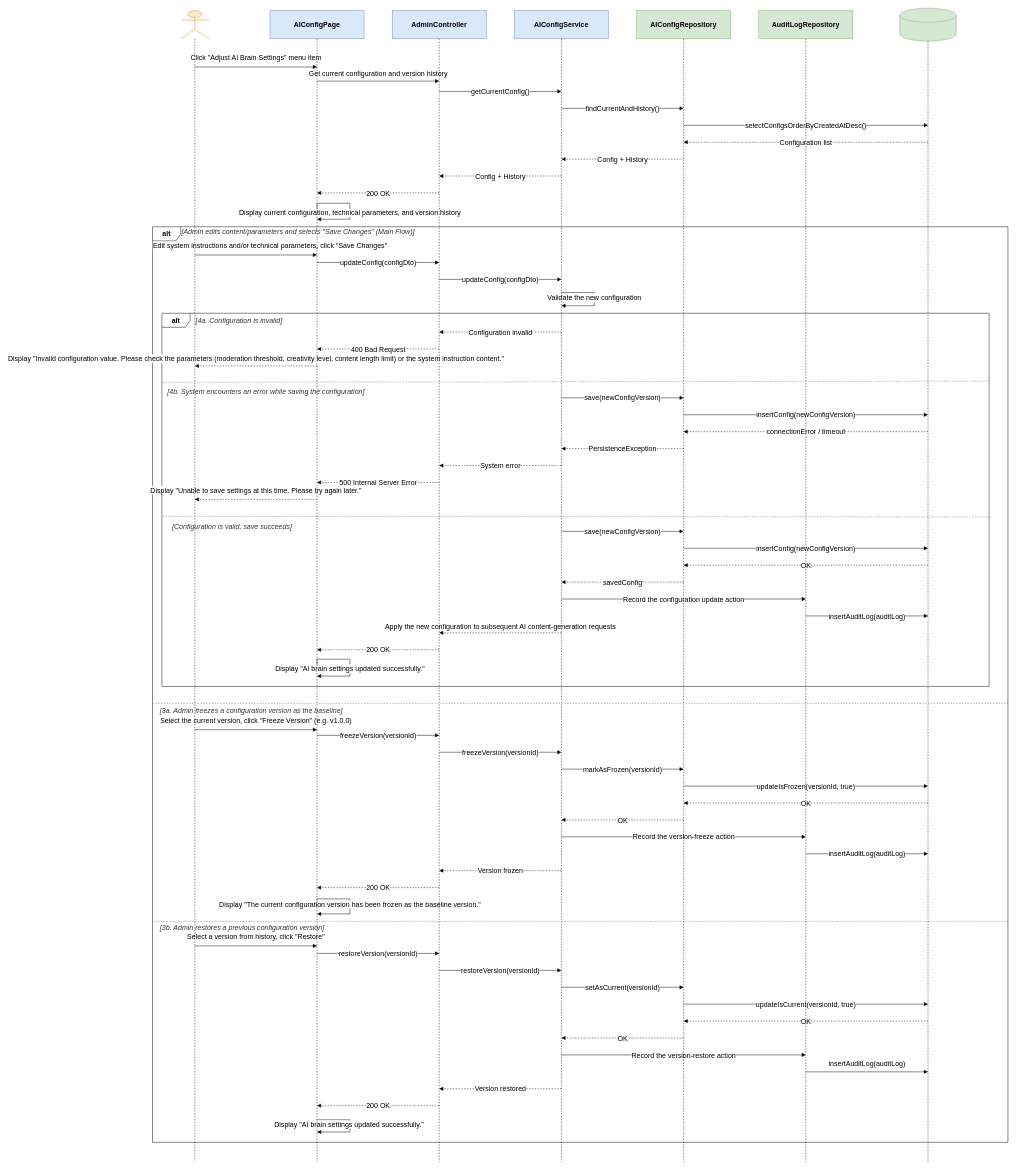
The diagram is 1017 pixels wide and 1171 high, and some of its shapes have lost their labels. The centre of each missing label's shape, as x and y in pixels:
Admin: (x=194, y=24)
PostgreSQL: (x=927, y=24)
